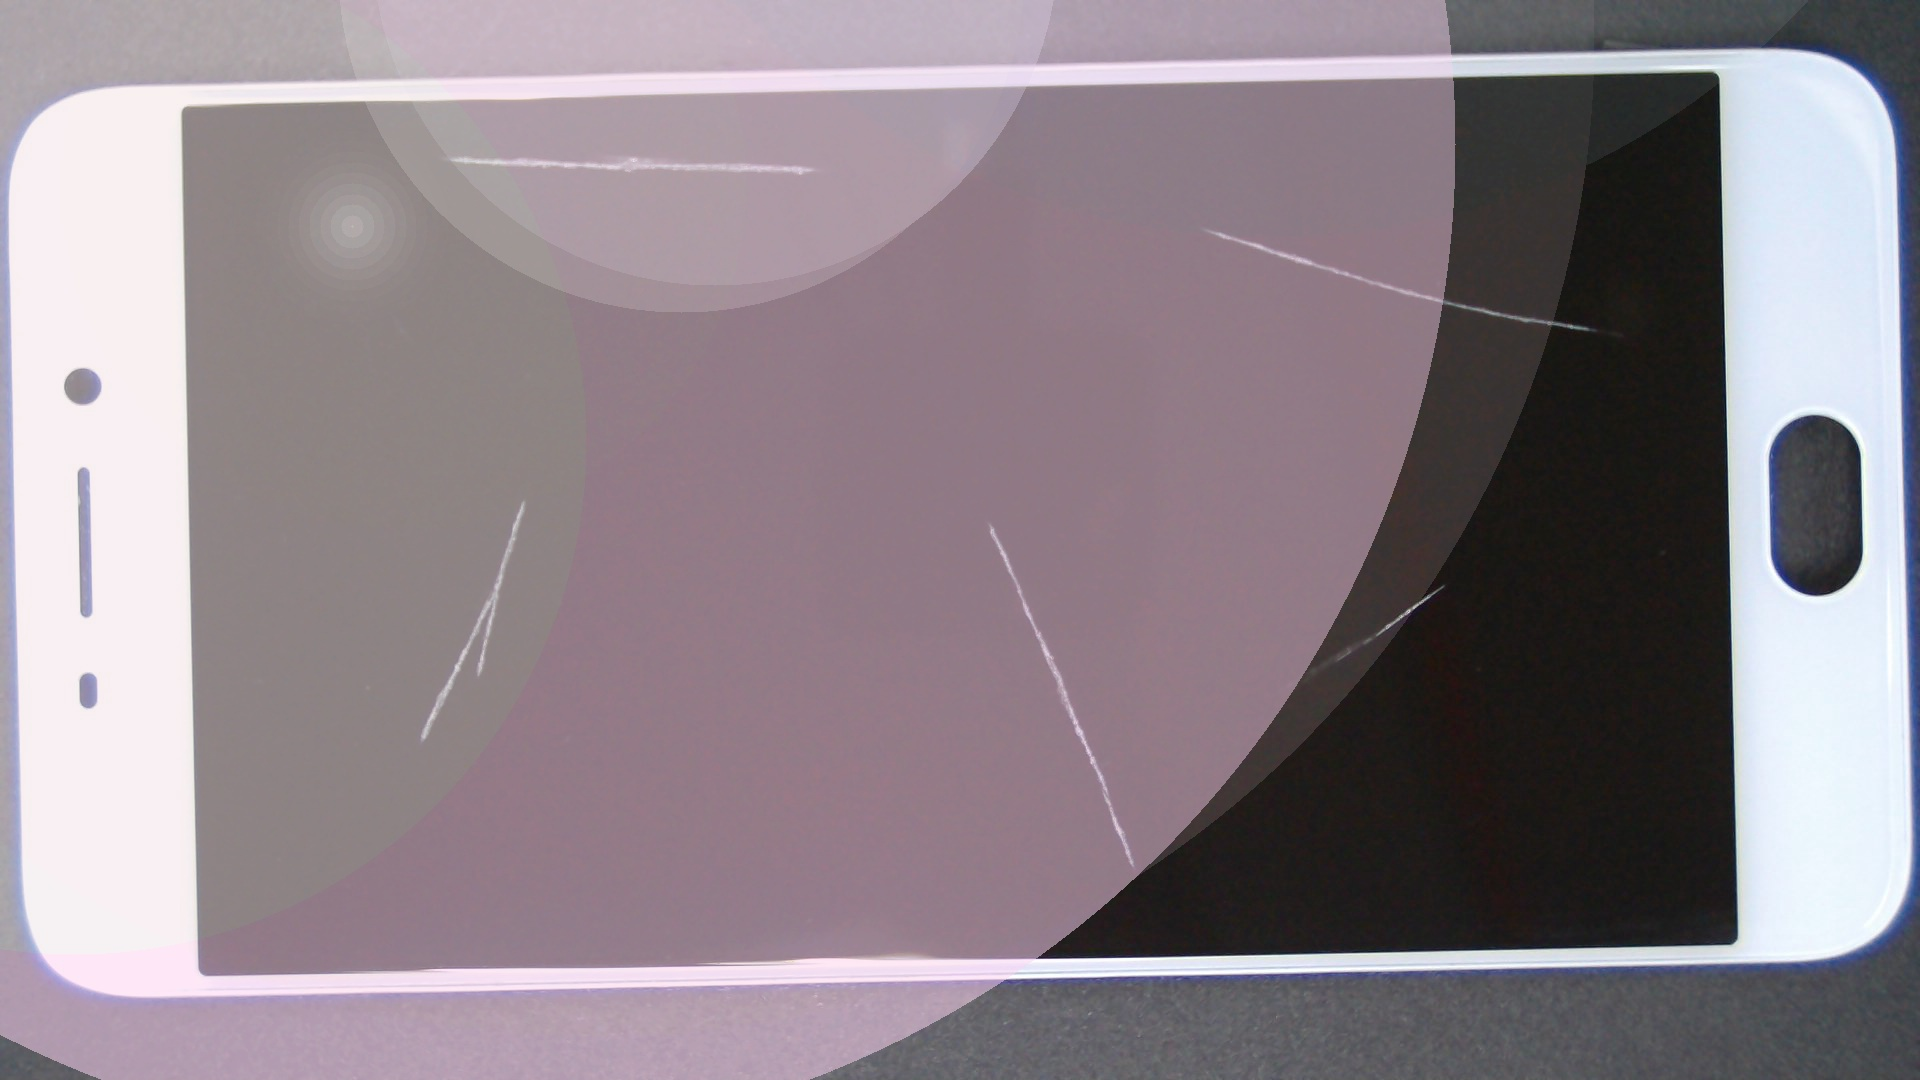oil: (723, 291, 1920, 877), (493, 260, 1481, 785), (603, 112, 1805, 339), (262, 249, 785, 750), (229, 76, 688, 233)
